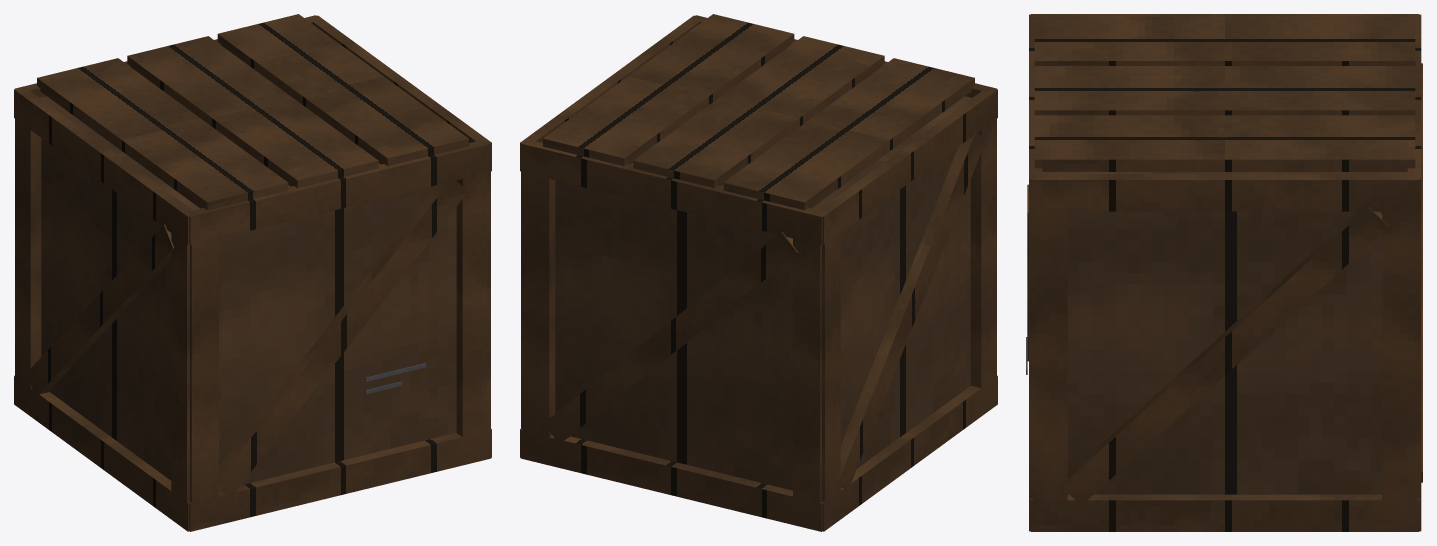
Rendered from crate.glb.
3 views of the same model, side by side, from view 1: azimuth 30°, elevation 25°; view 2: azimuth 150°, elevation 25°; view 3: azimuth 270°, elevation 25° (orthographic). The views are drawn at different scales.
Visible parts, largest first — view 1: detail, crate-col; view 2: detail, crate-col; view 3: detail, crate-col.
Boxes of the visible parts, x1,y1,x2,y2 form: detail: (14, 14, 491, 531); crate-col: (40, 96, 456, 490); detail: (520, 14, 997, 531); crate-col: (555, 96, 971, 490); detail: (1026, 14, 1422, 531); crate-col: (1042, 172, 1407, 494).
Size of the model in its own units: 1.02 by 1.02 by 1.02.
3 materials, 3 textured.
